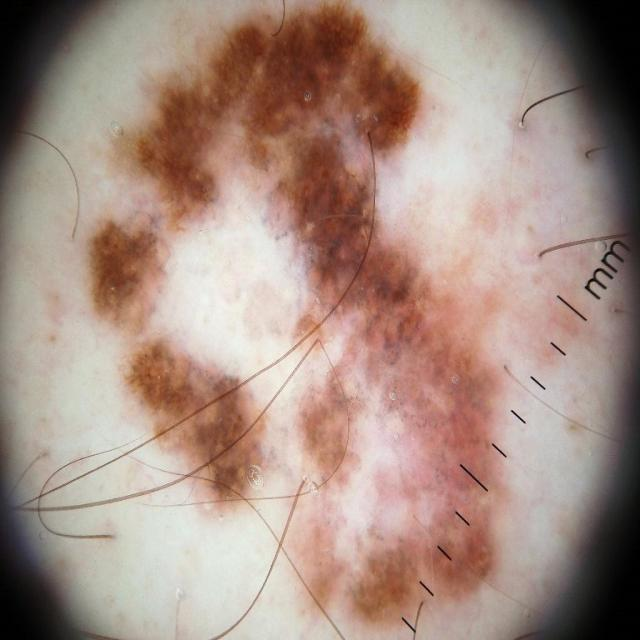Skin-Cancer Melanoma: (70, 3, 640, 640)
